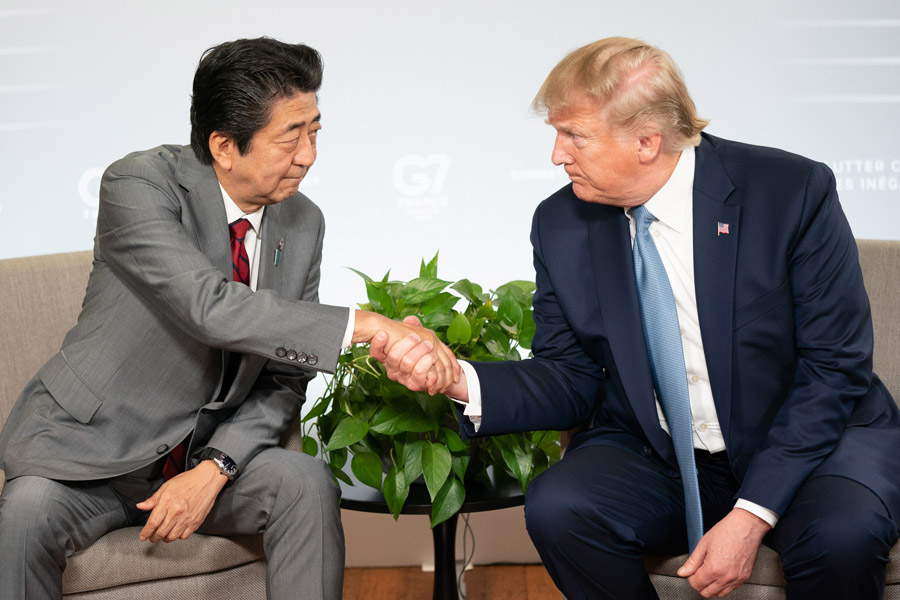male: (427, 34, 900, 600), (1, 35, 438, 600)
